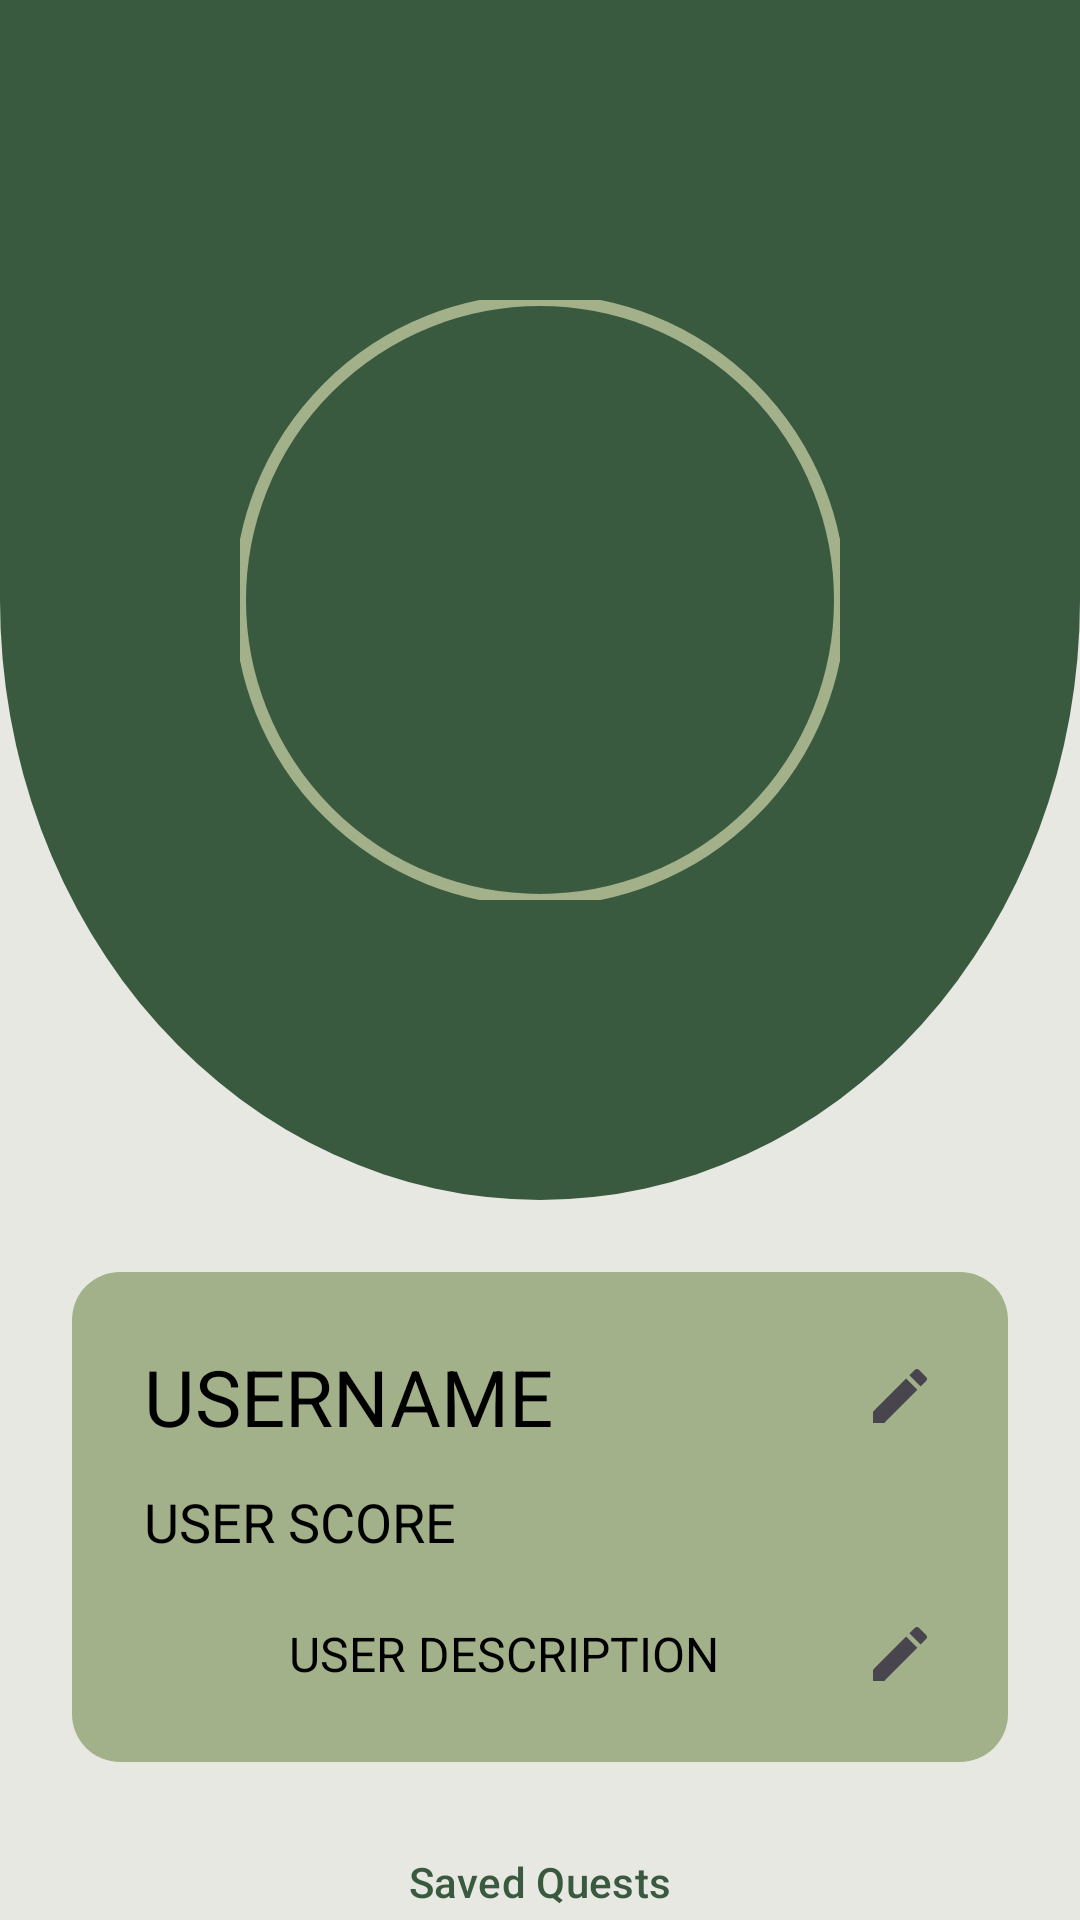

Screen size 1080 x 1920. Icon name, then its box in pixels as (x1, y1, x2, y2):
edit description: (873, 1627, 927, 1681)
